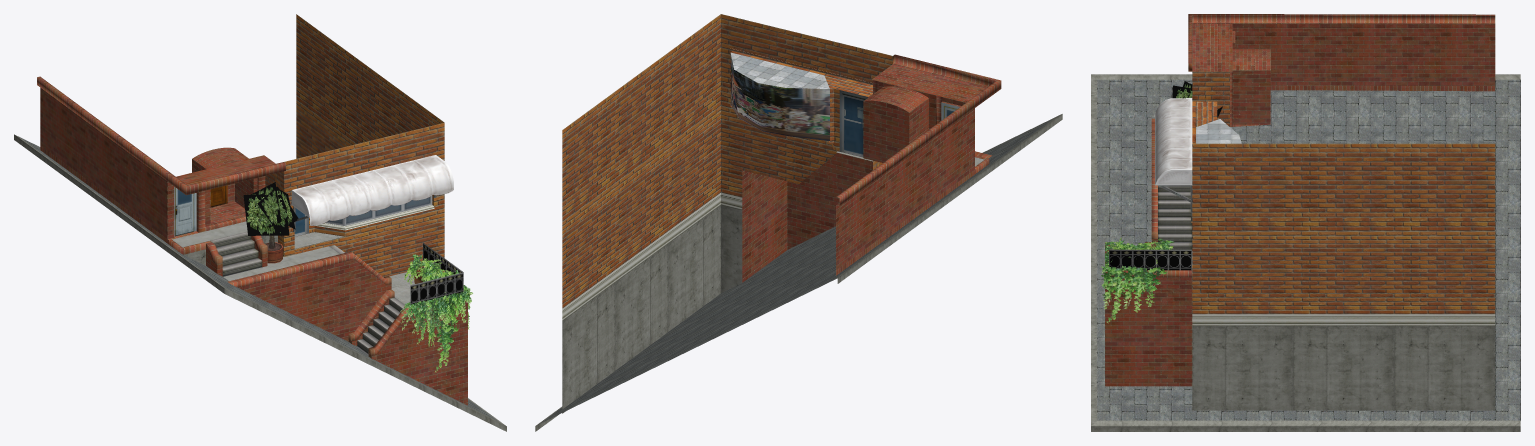
Rendered from HouseA_Base-35.obj.
The picture shows the model from 3 angles, left to right: view 1: azimuth 30°, elevation 25°; view 2: azimuth 150°, elevation 25°; view 3: azimuth 270°, elevation 25°; orthographic projection. The views are drawn at different scales.
Parts seen in each view (by area): view 1: HouseA_Base-35; view 2: HouseA_Base-35; view 3: HouseA_Base-35.
Part boxes in pixels (<box>): HouseA_Base-35: <box>14,14,506,431</box>; HouseA_Base-35: <box>535,14,1062,431</box>; HouseA_Base-35: <box>1091,14,1520,431</box>.
Bounding box in the file's own units: 14.5 × 13.55 × 18.71.
